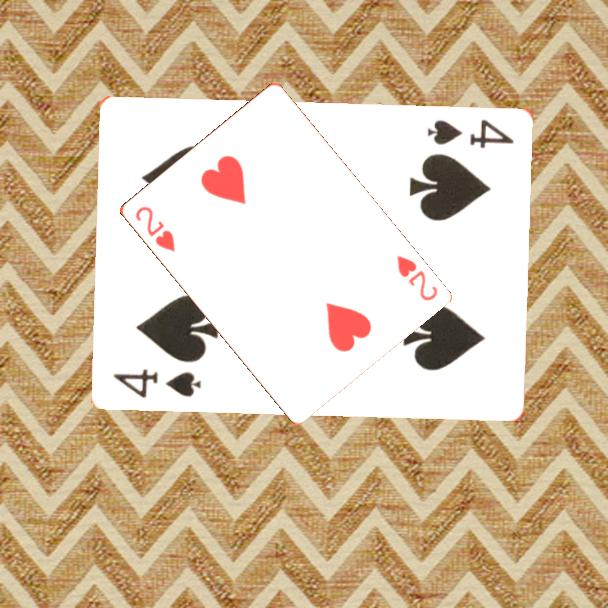h02: (131, 202, 178, 255), (393, 252, 440, 304)
s04: (111, 364, 205, 400), (424, 115, 517, 151)
